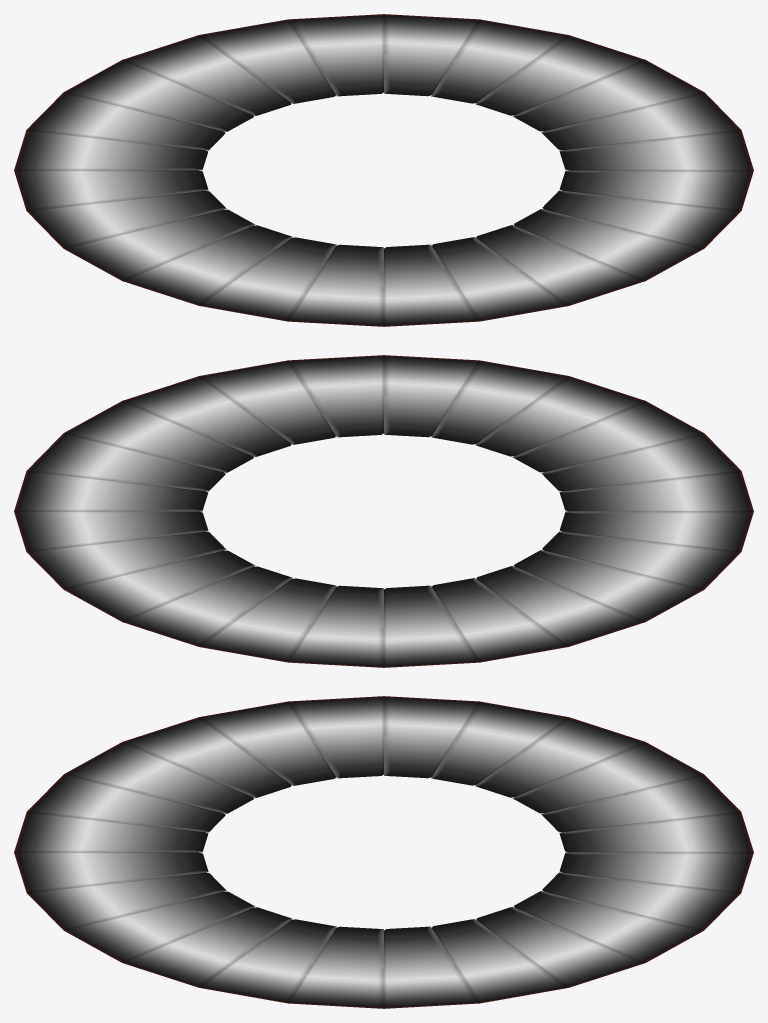
3 renders of one model, top to bottom at view 1: azimuth 30°, elevation 25°; view 2: azimuth 150°, elevation 25°; view 3: azimuth 270°, elevation 25°, orthographic.
Visible parts, largest first — view 1: T1L1M005_18; view 2: T1L1M005_18; view 3: T1L1M005_18.
Boxes of the visible parts, x1=… form: T1L1M005_18: x1=14, y1=14, x2=753, y2=326; T1L1M005_18: x1=14, y1=355, x2=753, y2=667; T1L1M005_18: x1=14, y1=696, x2=753, y2=1008.
Size of the model in its own units: 3.43 by 0 by 3.43.
